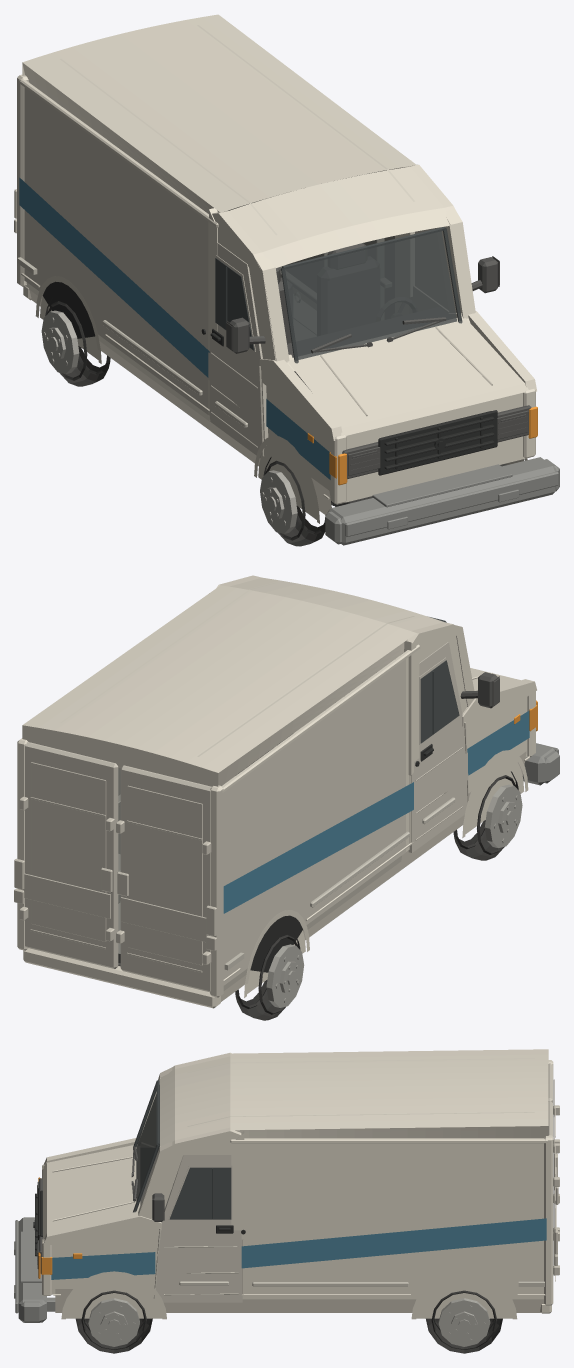
File: Vehicle_ServiceVan_Original.fbx
3 views of the same model, one above another, from view 1: azimuth 30°, elevation 25°; view 2: azimuth 150°, elevation 25°; view 3: azimuth 270°, elevation 25° (orthographic). The views are drawn at different scales.
Visible parts, largest first — view 1: Original_V01 | Ana araç gövdesi, RestoredCargoSide_V01 | Ana araç gövdesi, Original_V04 | Ön cam, Original_V09 | Ön tampon, Original_V03 | Ön kapı paneli | Sağ, RestoredCargoSide_V20 | Yan mavi boyalı şerit, Original_V18 | Ön koltuk | Sürücü, Original_V10 | Ön ızgara ve amblem bölümü, Original_V22 | Yük bölmesi iç mekânı, Original_V03 | Ön kapı paneli | Sol, Original_V20 | Yan mavi boyalı şerit, Original_V16 | Ön gösterge paneli (+11 smaller); view 2: Original_V01 | Ana araç gövdesi, RestoredCargoSide_V01 | Ana araç gövdesi, Original_V21 | Arka çift yük kapısı | Sol, Original_V21 | Arka çift yük kapısı | Sağ, Original_V03 | Ön kapı paneli | Sağ, RestoredCargoSide_V20 | Yan mavi boyalı şerit, Original_V05 | Yan kapı camı | Sağ, Original_V15 | Jant ve göbek | Arka Sağ, Original_V15 | Jant ve göbek | Ön Sağ, Original_V20 | Yan mavi boyalı şerit, Original_V14 | Araç lastiği | Arka Sağ, Original_V14 | Araç lastiği | Ön Sağ (+4 smaller); view 3: Original_V01 | Ana araç gövdesi, Original_V20 | Yan mavi boyalı şerit, Original_V03 | Ön kapı paneli | Sol, Original_V05 | Yan kapı camı | Sol, Original_V09 | Ön tampon, Original_V15 | Jant ve göbek | Arka Sol, Original_V15 | Jant ve göbek | Ön Sol, Original_V04 | Ön cam, Original_V14 | Araç lastiği | Arka Sol, Original_V14 | Araç lastiği | Ön Sol, Original_V08 | Yan koruma çıtası | Sol, Original_V19 | Tavan çizgi detayları (+4 smaller).
Part boxes in pixels (box(x1,y1,x2,y2)): Original_V01 | Ana araç gövdesi: box(17, 14, 536, 523); RestoredCargoSide_V01 | Ana araç gövdesi: box(17, 77, 215, 421); Original_V04 | Ön cam: box(281, 226, 462, 363); Original_V09 | Ön tampon: box(325, 457, 559, 545); Original_V03 | Ön kapı paneli | Sağ: box(208, 242, 268, 458); RestoredCargoSide_V20 | Yan mavi boyalı şerit: box(19, 178, 209, 377); Original_V18 | Ön koltuk | Sürücü: box(317, 243, 379, 335); Original_V10 | Ön ızgara ve amblem bölümü: box(378, 410, 497, 475); Original_V22 | Yük bölmesi iç mekânı: box(55, 101, 394, 340); Original_V03 | Ön kapı paneli | Sol: box(409, 228, 448, 313); Original_V20 | Yan mavi boyalı şerit: box(20, 178, 330, 479); Original_V16 | Ön gösterge paneli: box(287, 307, 452, 385); Original_V01 | Ana araç gövdesi: box(17, 575, 536, 1008); RestoredCargoSide_V01 | Ana araç gövdesi: box(217, 644, 420, 996); Original_V21 | Arka çift yük kapısı | Sol: box(14, 742, 128, 968); Original_V21 | Arka çift yük kapısı | Sağ: box(101, 765, 216, 992); Original_V03 | Ön kapı paneli | Sağ: box(408, 642, 469, 852); RestoredCargoSide_V20 | Yan mavi boyalı şerit: box(224, 782, 413, 913); Original_V05 | Yan kapı camı | Sağ: box(420, 660, 459, 743); Original_V15 | Jant ve göbek | Arka Sağ: box(266, 944, 304, 1007); Original_V15 | Jant ve göbek | Ön Sağ: box(484, 784, 522, 848); Original_V20 | Yan mavi boyalı şerit: box(223, 711, 529, 913); Original_V14 | Araç lastiği | Arka Sağ: box(235, 931, 300, 1020); Original_V14 | Araç lastiği | Ön Sağ: box(453, 771, 518, 860); Original_V01 | Ana araç gövdesi: box(42, 1049, 553, 1319); Original_V20 | Yan mavi boyalı şerit: box(51, 1218, 546, 1279); Original_V03 | Ön kapı paneli | Sol: box(154, 1155, 242, 1302); Original_V05 | Yan kapı camı | Sol: box(169, 1167, 231, 1219); Original_V09 | Ön tampon: box(14, 1217, 55, 1322); Original_V15 | Jant ve göbek | Arka Sol: box(438, 1298, 490, 1346); Original_V15 | Jant ve göbek | Ön Sol: box(88, 1298, 139, 1346); Original_V04 | Ön cam: box(133, 1080, 159, 1212); Original_V14 | Araç lastiği | Arka Sol: box(426, 1290, 502, 1353); Original_V14 | Araç lastiği | Ön Sol: box(75, 1290, 152, 1353); Original_V08 | Yan koruma çıtası | Sol: box(179, 1281, 544, 1286); Original_V19 | Tavan çizgi detayları: box(187, 1058, 534, 1126).
Bounding box in the file's own units: 2.65 × 2.71 × 5.83.
